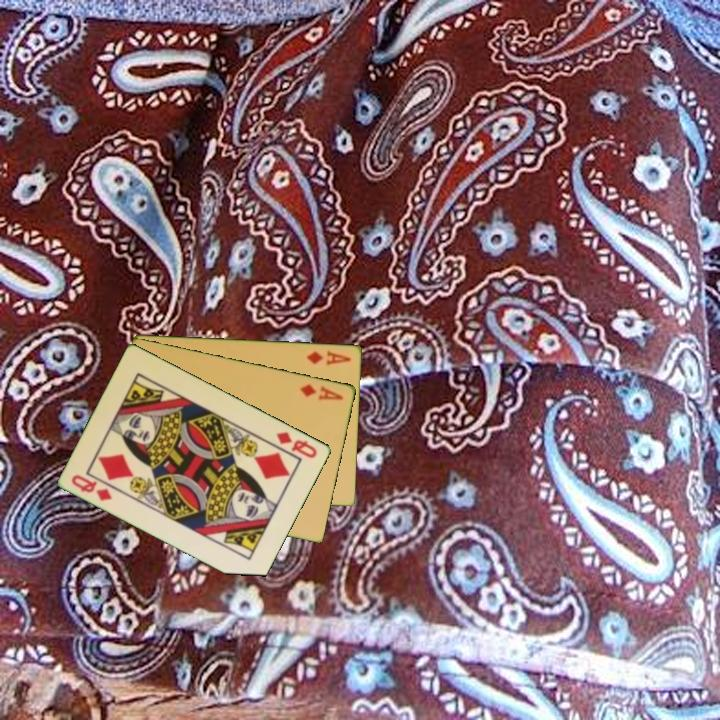Ad: (296, 380, 346, 403), (304, 347, 354, 368)
Qd: (68, 471, 116, 504), (273, 428, 320, 461)
